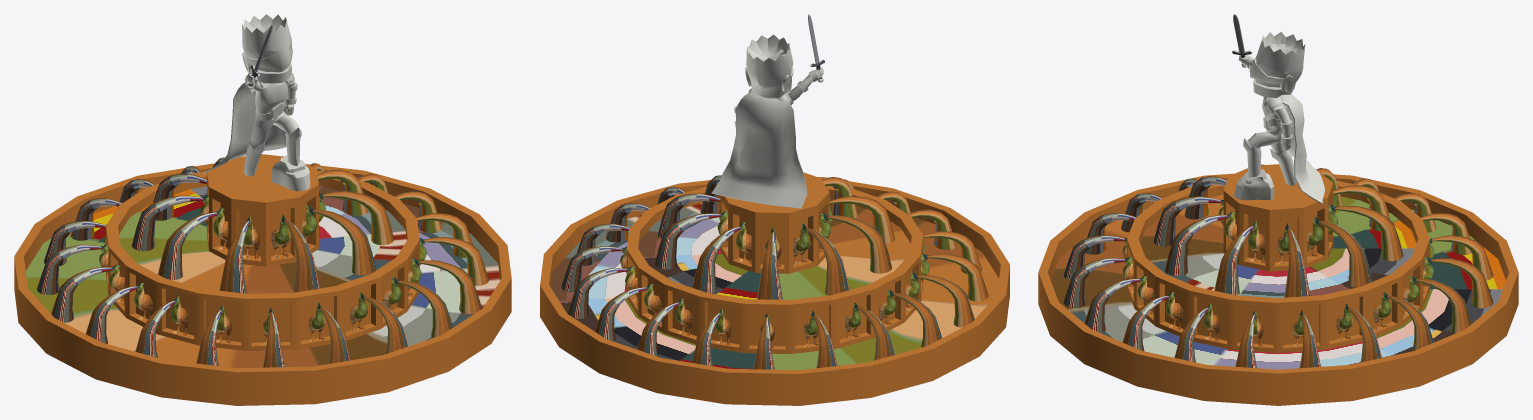
File: HeroAsset_Test02.fbx
3 views of the same model, side by side, from view 1: azimuth 30°, elevation 25°; view 2: azimuth 150°, elevation 25°; view 3: azimuth 270°, elevation 25° (orthographic). The views are drawn at different scales.
Parts seen in each view (by area): view 1: Base, cascata10, acqua, acqua1, statua, cascata7, cascata4, cascata3, cascata8, cascata6, cascata5, cascata9 (+1 smaller); view 2: Base, cascata10, acqua, statua, acqua1, cascata, cascata4, cascata1, cascata3, cascata2, cascata5, cascata9 (+2 smaller); view 3: Base, cascata10, acqua, acqua1, statua, cascata7, cascata, cascata1, cascata8, cascata6, cascata9, cascata5 (+1 smaller).
Part boxes in pixels (x1,y1,x2,y2): Base: [14, 154, 511, 405]; cascata10: [37, 163, 488, 367]; acqua: [25, 204, 500, 368]; acqua1: [119, 186, 406, 293]; statua: [202, 14, 310, 191]; cascata7: [312, 209, 375, 275]; cascata4: [158, 212, 217, 279]; cascata3: [132, 195, 203, 251]; cascata8: [322, 191, 393, 245]; cascata6: [284, 220, 319, 292]; cascata5: [219, 221, 249, 293]; cascata9: [317, 169, 367, 215]; Base: [540, 172, 1009, 405]; cascata10: [561, 179, 988, 369]; acqua: [551, 215, 998, 370]; statua: [711, 14, 824, 208]; acqua1: [639, 199, 910, 299]; cascata: [654, 213, 721, 269]; cascata4: [827, 215, 891, 273]; cascata1: [692, 226, 740, 293]; cascata3: [805, 228, 849, 295]; cascata2: [757, 232, 782, 299]; cascata5: [829, 196, 895, 244]; cascata9: [658, 193, 720, 238]; Base: [1038, 164, 1518, 405]; cascata10: [1063, 178, 1493, 368]; acqua: [1051, 209, 1505, 369]; acqua1: [1140, 195, 1416, 297]; statua: [1232, 14, 1324, 204]; cascata7: [1165, 215, 1228, 276]; cascata: [1318, 221, 1372, 287]; cascata1: [1334, 206, 1403, 261]; cascata8: [1214, 226, 1253, 295]; cascata6: [1153, 196, 1221, 246]; cascata9: [1284, 228, 1310, 297]; cascata5: [1184, 176, 1227, 219].
Bounding box in the file's own units: 766 × 500 × 766.
Materials: 1 (1 with a texture image).
